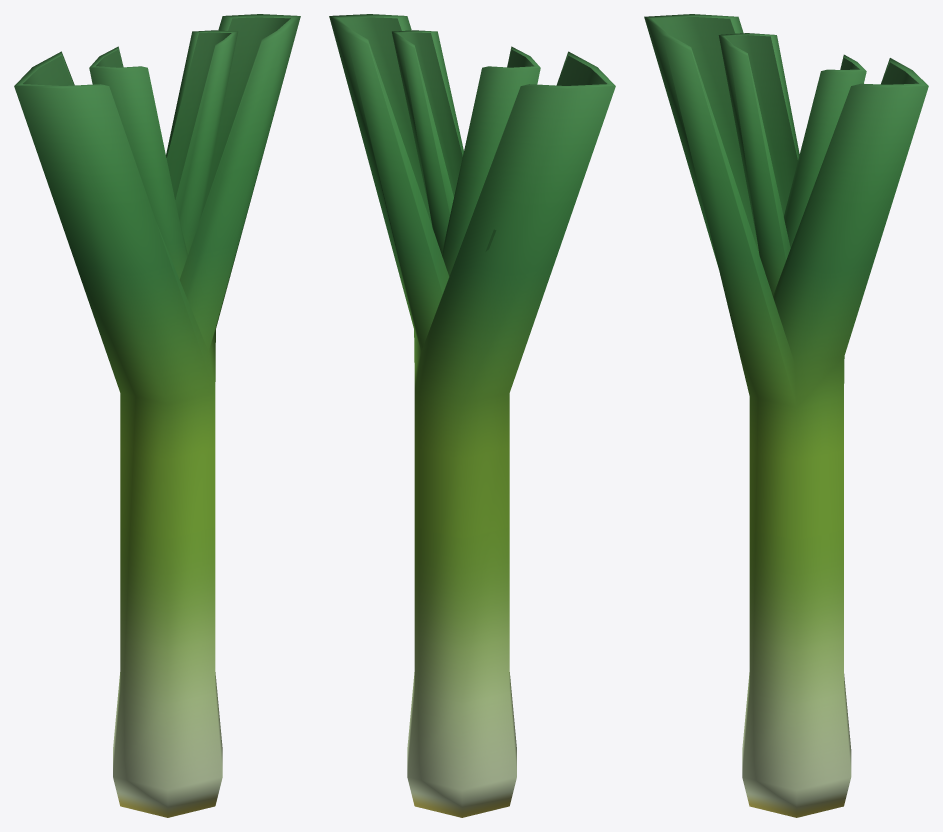
File: Leek.FBX
3 renders of one model, left to right at view 1: azimuth 30°, elevation 25°; view 2: azimuth 150°, elevation 25°; view 3: azimuth 330°, elevation 25°, orthographic.
Parts seen in each view (by area): view 1: Leek; view 2: Leek; view 3: Leek.
Part boxes in pixels (x1,y1,x2,y2): Leek: (14, 14, 300, 817); Leek: (329, 14, 615, 817); Leek: (644, 14, 928, 817).
Size of the model in its own units: 12.06 by 29.98 by 4.
Materials: 1 (1 with a texture image).
